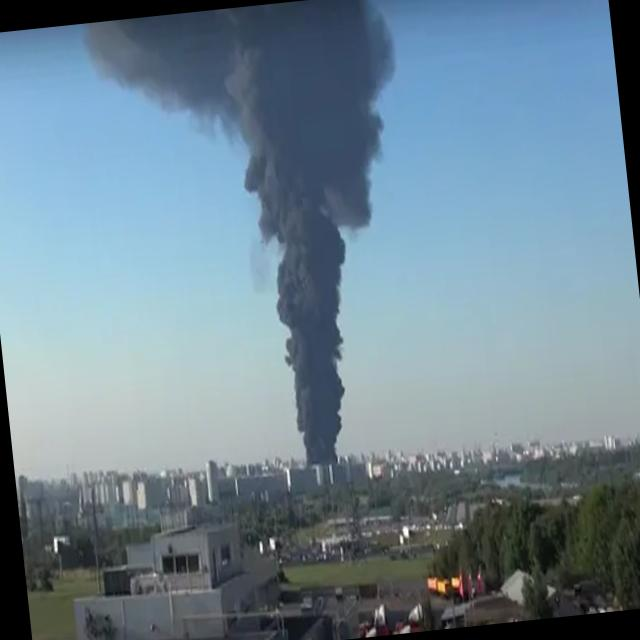Smoke: (190, 0, 443, 473)
